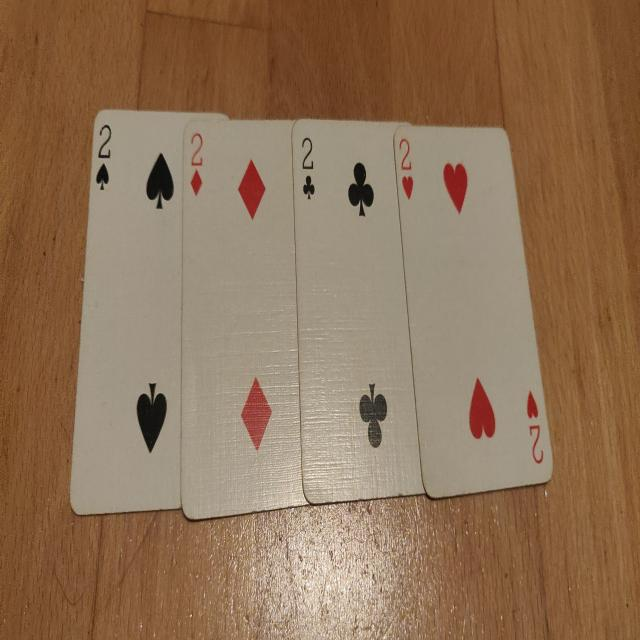Club: (359, 383, 387, 448), (348, 162, 374, 216), (303, 176, 315, 200)
Diamond: (241, 377, 272, 450), (238, 158, 266, 220), (190, 169, 202, 196)
Heart: (469, 377, 495, 439), (443, 163, 468, 214), (527, 390, 538, 418), (402, 176, 413, 200)
Spade: (137, 382, 167, 453), (146, 153, 174, 210), (96, 163, 109, 190)
